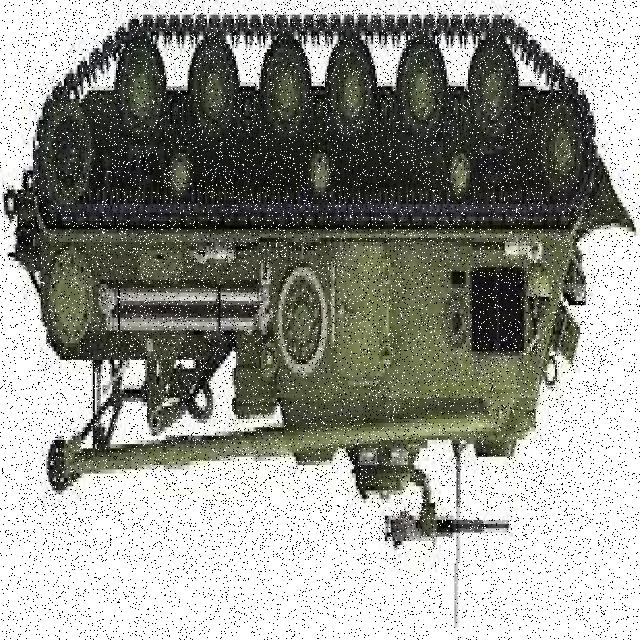MIL_MBT: (26, 8, 610, 562)
